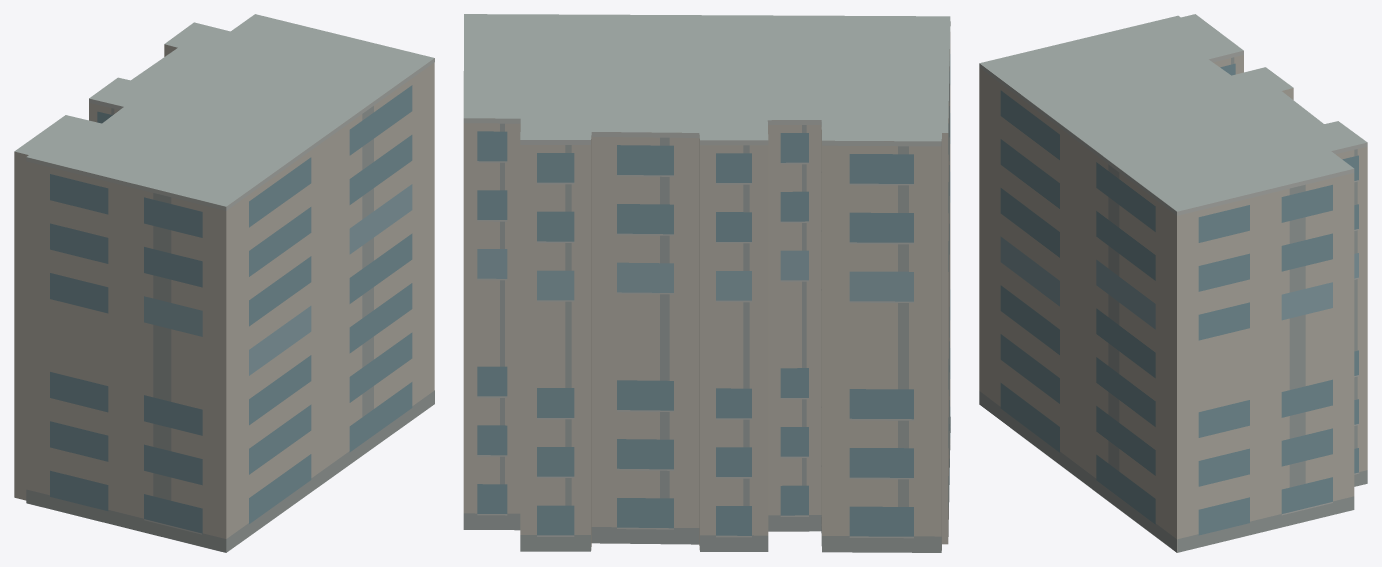
Rendered from survey-upis-32696146.glb.
The picture shows the model from 3 angles, left to right: view 1: azimuth 30°, elevation 25°; view 2: azimuth 150°, elevation 25°; view 3: azimuth 270°, elevation 25°; orthographic projection. The views are drawn at different scales.
Parts seen in each view (by area): view 1: survey-upis-32696146.tmp; view 2: survey-upis-32696146.tmp; view 3: survey-upis-32696146.tmp.
Part boxes in pixels (x1,y1,x2,y2): survey-upis-32696146.tmp: [14, 14, 434, 552]; survey-upis-32696146.tmp: [463, 14, 950, 552]; survey-upis-32696146.tmp: [979, 14, 1367, 552].
Size of the model in its own units: 24.93 by 20.05 by 20.69.
